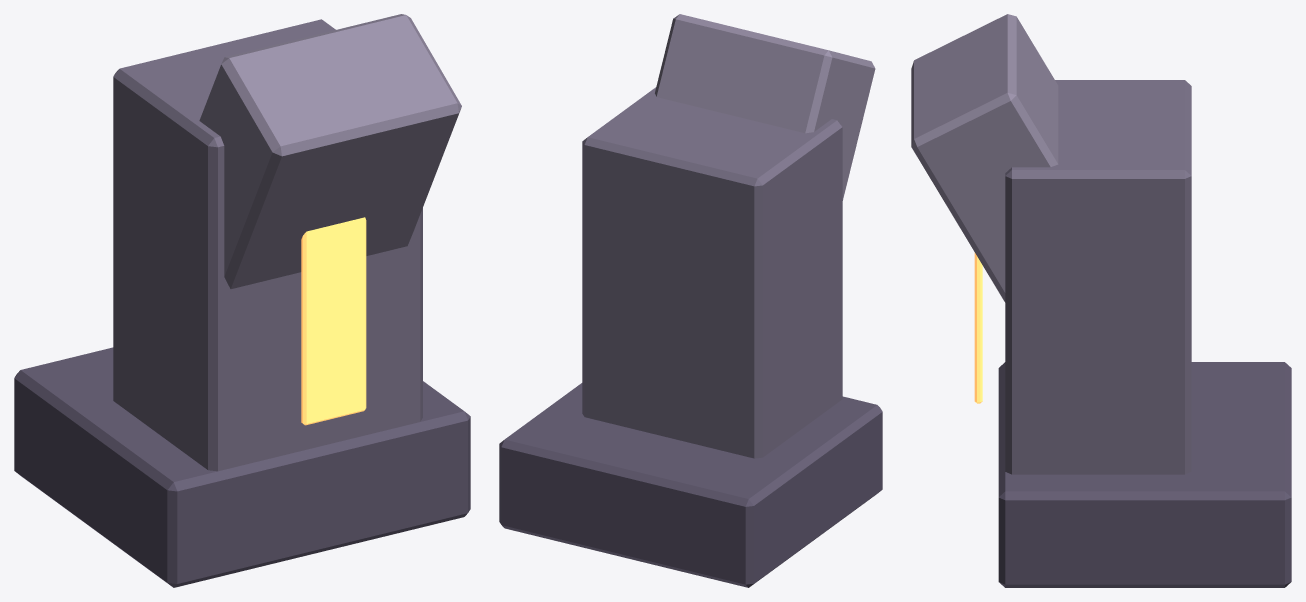
File: ember_gatehouse_buttress.glb
3 views of the same model, side by side, from view 1: azimuth 30°, elevation 25°; view 2: azimuth 150°, elevation 25°; view 3: azimuth 270°, elevation 25° (orthographic). The views are drawn at different scales.
Parts seen in each view (by area): view 1: ember_gatehouse_buttress.001; view 2: ember_gatehouse_buttress.001; view 3: ember_gatehouse_buttress.001.
Part boxes in pixels (<box>): ember_gatehouse_buttress.001: <box>14,14,470,587</box>; ember_gatehouse_buttress.001: <box>499,14,882,587</box>; ember_gatehouse_buttress.001: <box>911,14,1291,587</box>.
Bounding box in the file's own units: 2.4 × 3.89 × 2.85.
